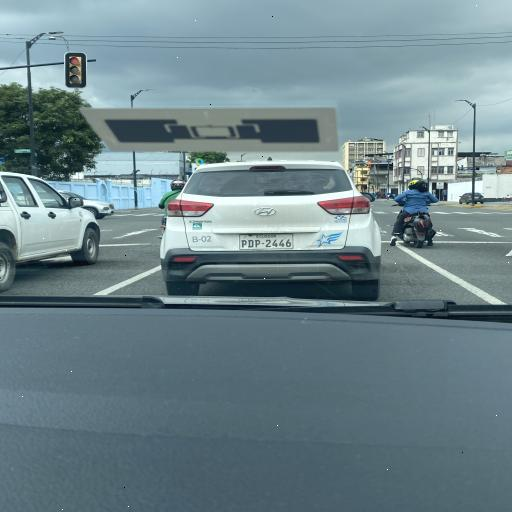license_plate: (265, 239, 272, 248), (285, 239, 292, 247), (242, 240, 248, 249), (272, 239, 278, 248), (279, 239, 285, 248), (248, 240, 254, 248), (254, 240, 260, 248)
